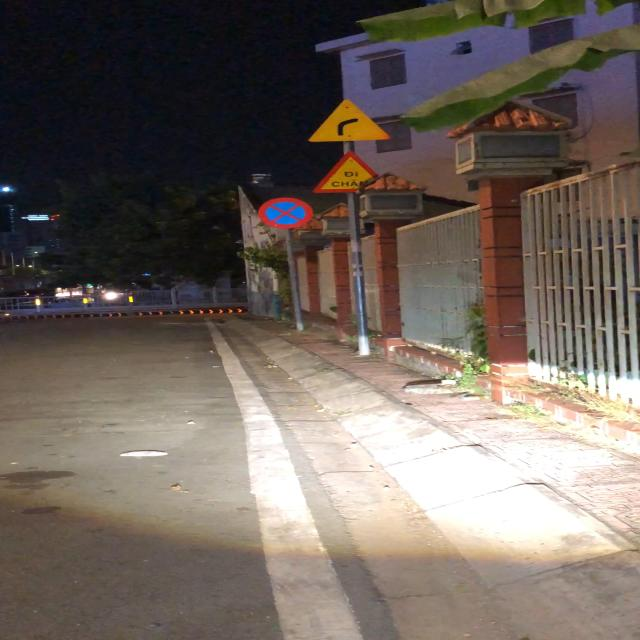Bien bao cam dung xe va do xe: (256, 197, 314, 230)
Bien bao cho ngoat nguy hiem: (304, 98, 398, 143)
Bien bao di cham: (310, 148, 390, 194)
